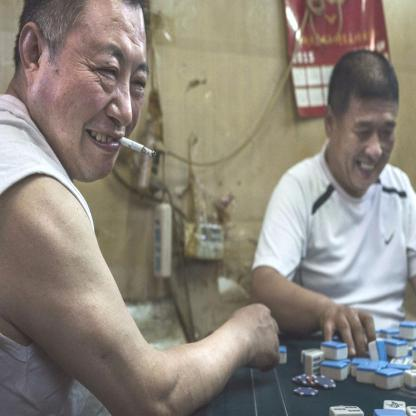cigarette: (120, 137, 157, 159)
person: (0, 0, 154, 415), (261, 48, 415, 330)
